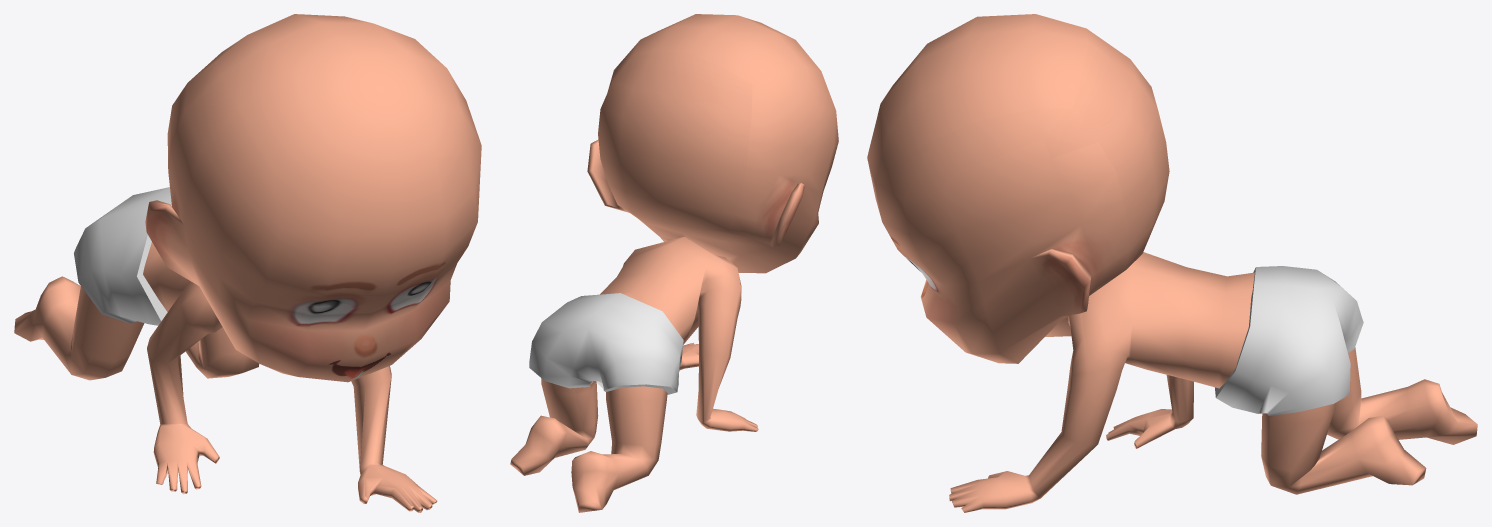
The model's file is BEBE_4pattes.fbx.
The picture shows the model from 3 angles, left to right: view 1: azimuth 30°, elevation 25°; view 2: azimuth 150°, elevation 25°; view 3: azimuth 270°, elevation 25°; orthographic projection. The views are drawn at different scales.
Parts seen in each view (by area): view 1: baby, Pantsbaby; view 2: baby, Pantsbaby; view 3: baby, Pantsbaby.
Part boxes in pixels (bbox=[...]): baby: bbox=[14, 14, 481, 512]; Pantsbaby: bbox=[74, 187, 171, 325]; baby: bbox=[510, 14, 838, 512]; Pantsbaby: bbox=[529, 293, 683, 394]; baby: bbox=[867, 14, 1477, 512]; Pantsbaby: bbox=[1215, 266, 1363, 415].
Size of the model in its own units: 357 by 566 by 691.
2 materials, 1 textured.
